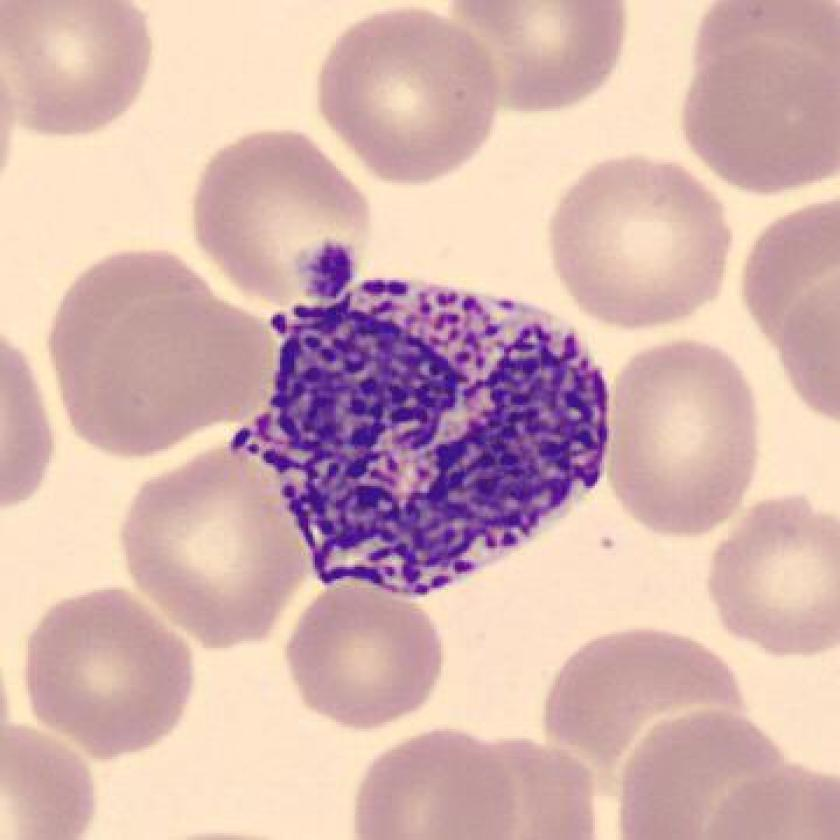basophil: (246, 249, 619, 603)
